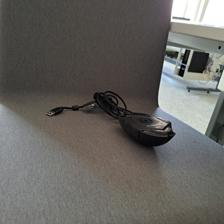mouse: (117, 111, 176, 146)
